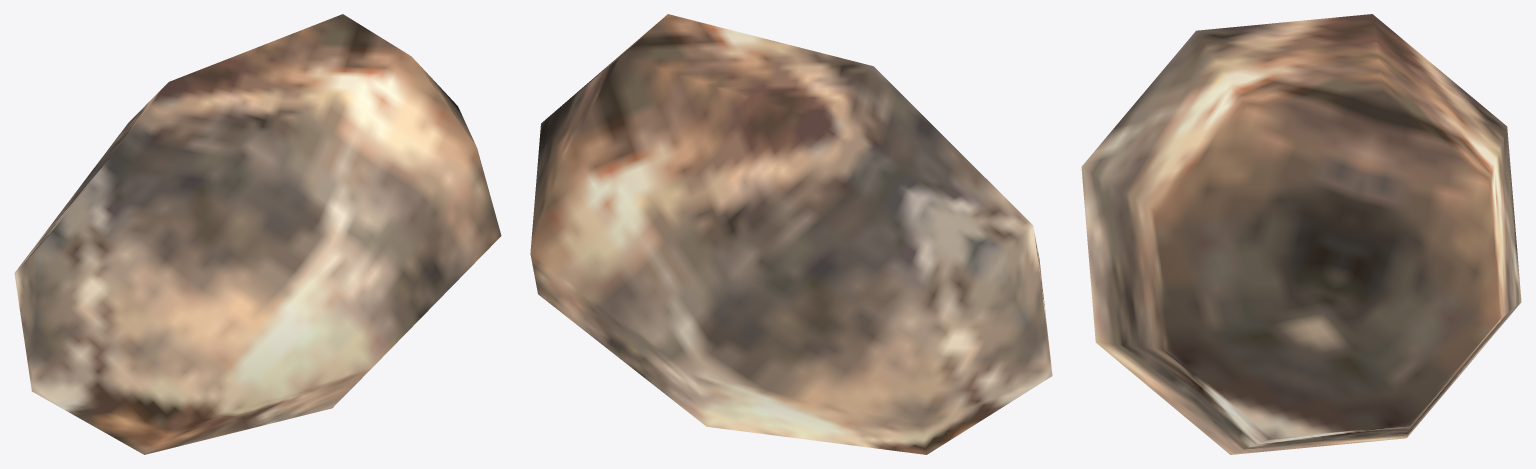
3 renders of one model, left to right at view 1: azimuth 30°, elevation 25°; view 2: azimuth 150°, elevation 25°; view 3: azimuth 270°, elevation 25°, orthographic. The views are drawn at different scales.
Visible parts, largest first — view 1: m_nb_0001_none; view 2: m_nb_0001_none; view 3: m_nb_0001_none.
Boxes of the visible parts, x1=… form: m_nb_0001_none: x1=14, y1=14, x2=501, y2=454; m_nb_0001_none: x1=530, y1=14, x2=1052, y2=454; m_nb_0001_none: x1=1081, y1=14, x2=1521, y2=454.
Bounding box in the file's own units: 33.31 × 23.03 × 22.75.
1 material, 1 textured.
